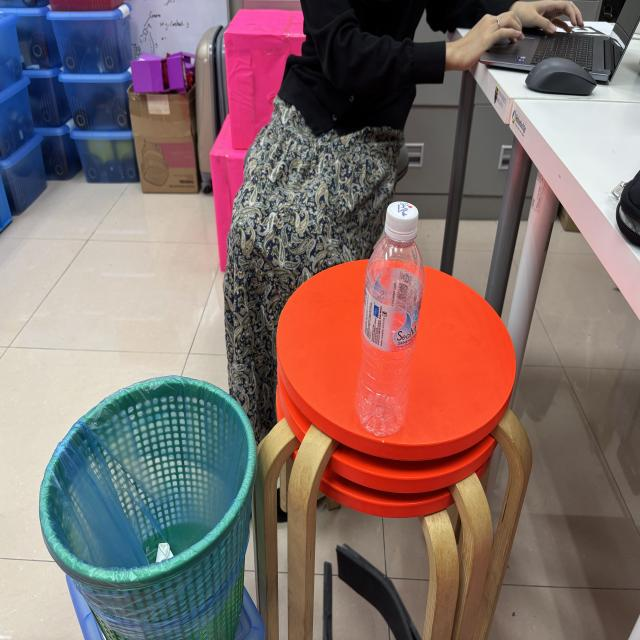dustbin: (36, 364, 263, 640)
plastic_bottle: (351, 198, 428, 446)
